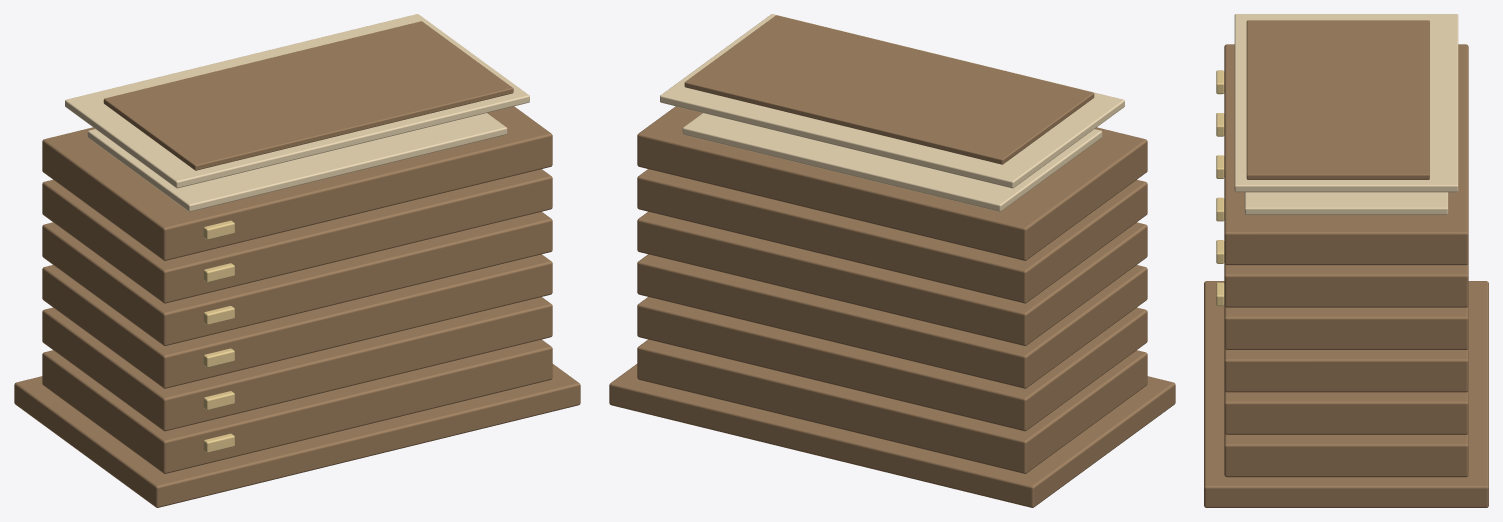
File: marquetry-and-veneer-inlay-workshop-flat-veneer-leaf-s-5d58e22d__39089.glb
3 views of the same model, side by side, from view 1: azimuth 30°, elevation 25°; view 2: azimuth 150°, elevation 25°; view 3: azimuth 270°, elevation 25° (orthographic).
Parts seen in each view (by area): view 1: flat-veneer-leaf-storage-cabinet; view 2: flat-veneer-leaf-storage-cabinet; view 3: flat-veneer-leaf-storage-cabinet.
Boxes of the visible parts, bbox=[...] form: flat-veneer-leaf-storage-cabinet: bbox=[14, 14, 580, 507]; flat-veneer-leaf-storage-cabinet: bbox=[609, 14, 1175, 507]; flat-veneer-leaf-storage-cabinet: bbox=[1204, 14, 1488, 507].
Bounding box in the file's own units: 1.2 × 0.845 × 0.7.
